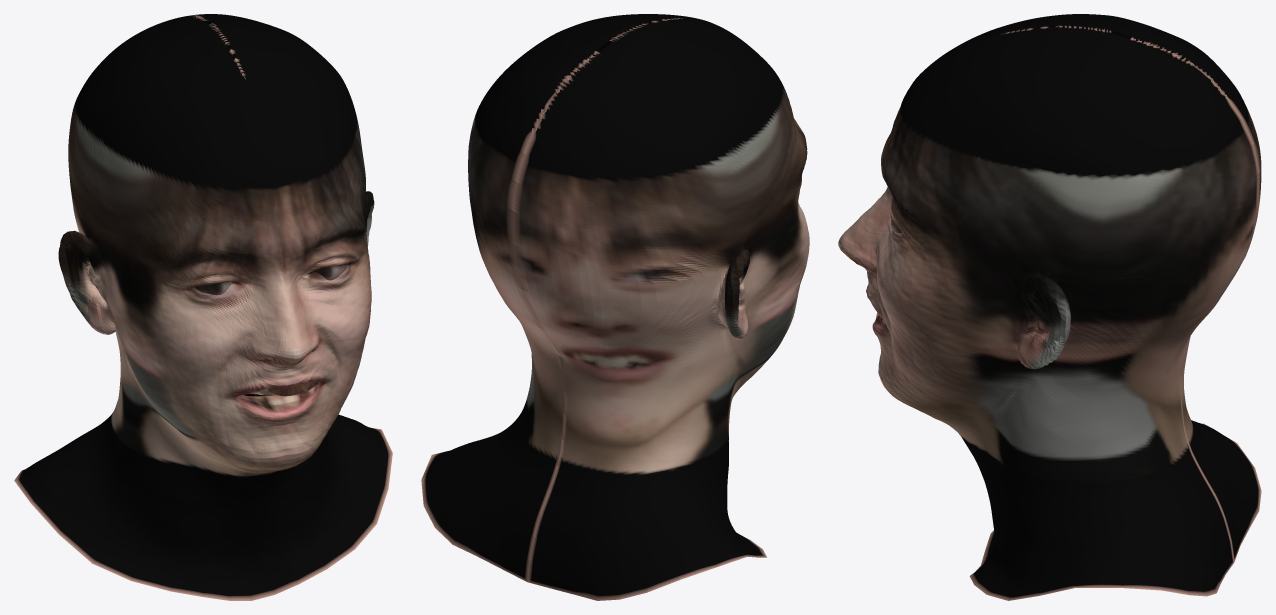
Rendered from mesh_coarse_detail.obj.
3 renders of one model, left to right at view 1: azimuth 30°, elevation 25°; view 2: azimuth 150°, elevation 25°; view 3: azimuth 270°, elevation 25°, orthographic. The views are drawn at different scales.
Size of the model in its own units: 0.2116 by 0.3207 by 0.225.
